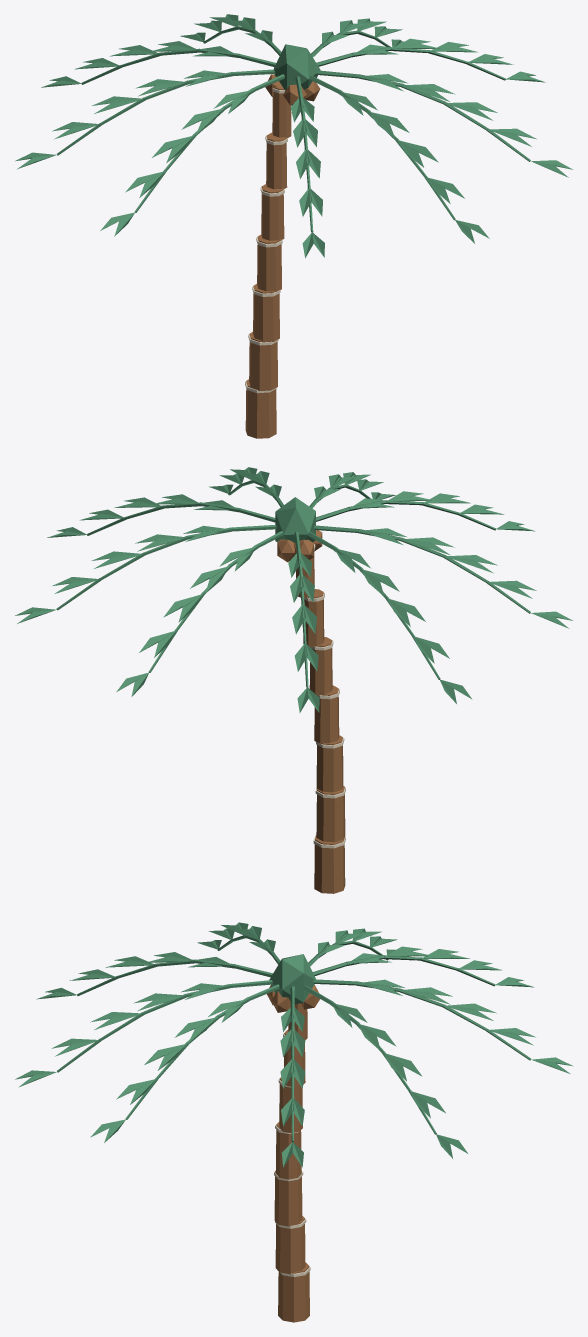
The model's file is LM_TREE_CoconutPalm.glb.
3 renders of one model, top to bottom at view 1: azimuth 30°, elevation 25°; view 2: azimuth 150°, elevation 25°; view 3: azimuth 270°, elevation 25°, orthographic.
Parts seen in each view (by area): view 1: LM_TREE_CoconutPalm; view 2: LM_TREE_CoconutPalm; view 3: LM_TREE_CoconutPalm.
Part boxes in pixels (x1=…): LM_TREE_CoconutPalm: x1=15, y1=14, x2=573, y2=438; LM_TREE_CoconutPalm: x1=15, y1=467, x2=572, y2=893; LM_TREE_CoconutPalm: x1=15, y1=922, x2=573, y2=1322.
Size of the model in its own units: 9.69 by 7.26 by 9.8.
